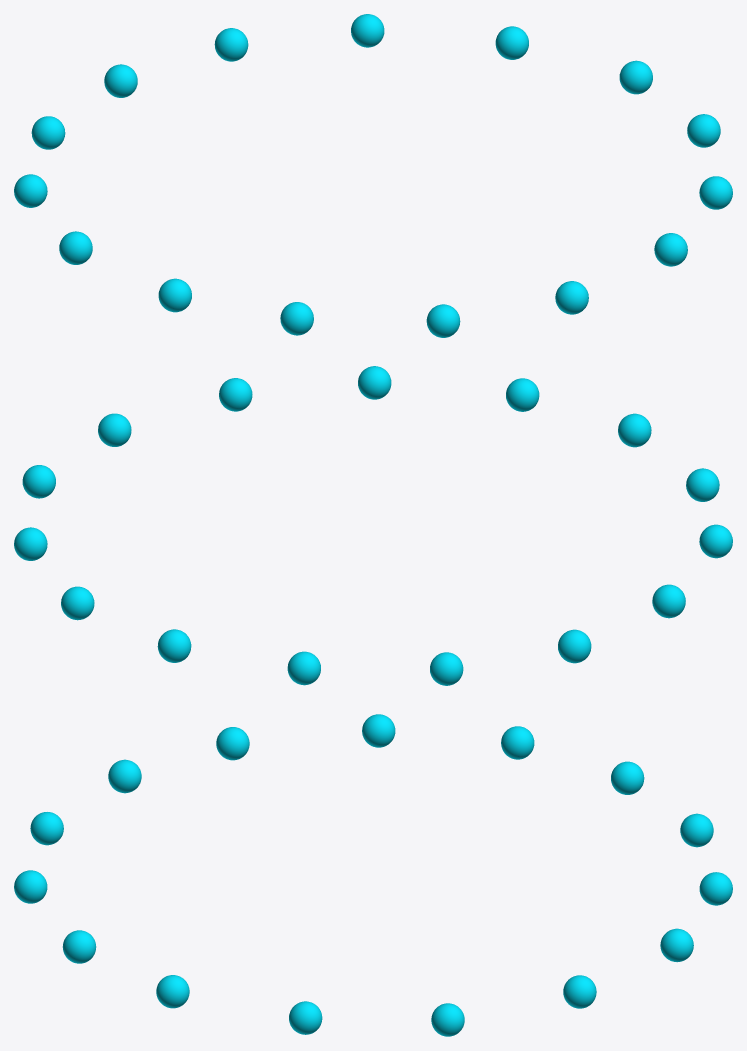
3 renders of one model, top to bottom at view 1: azimuth 30°, elevation 25°; view 2: azimuth 150°, elevation 25°; view 3: azimuth 270°, elevation 25°, orthographic.
Visible parts, largest first — view 1: Sphere050; view 2: Sphere050; view 3: Sphere050.
Boxes of the visible parts, left/top/right/bottom form: Sphere050: left=14, top=14, right=732, bottom=337; Sphere050: left=14, top=366, right=732, bottom=685; Sphere050: left=14, top=714, right=732, bottom=1036.
Size of the model in its own units: 176 by 8.22 by 176.
